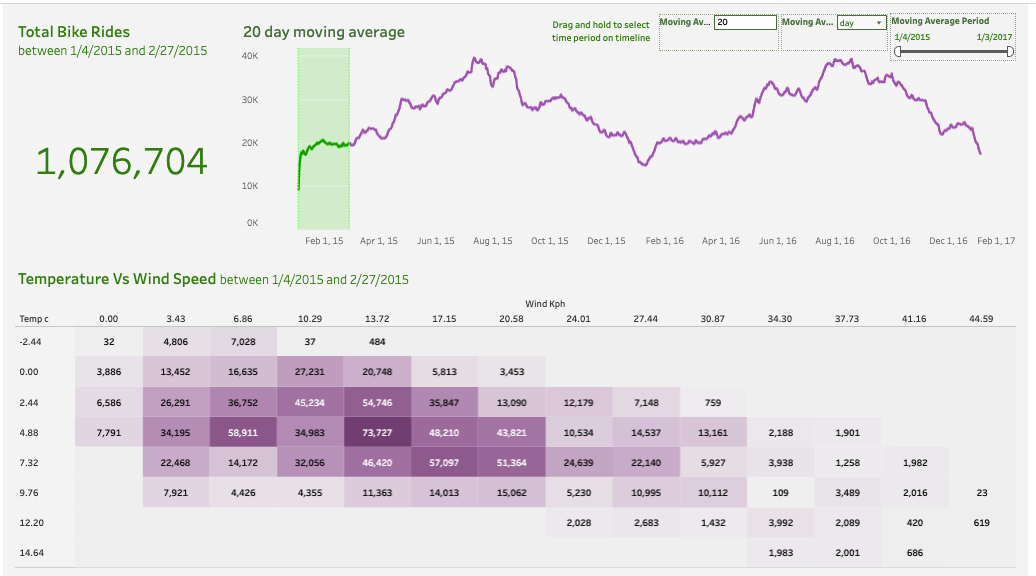

The page's visual inventory and layout, read from the dashboard file:
{"tool":"tableau","page":{"name":"Dashboard 1","canvas":[1366,768],"ordinal":0},"visuals":[{"type":"worksheet","title":"TotalRides","mark":"Automatic","box":[8,8,300,330]},{"type":"worksheet","title":"MovingAverage","mark":"Automatic","rows":["Calculation1"],"cols":["Calculation_5325506627737817089"],"box":[308,8,1050,330]},{"type":"filter","title":"MovingAverage","param":"[federated.1y41ptf0dyswvk1dkyn4m0nlelb0].[none:Calculation_5325506627737817089:q","box":[1183,12,168,64]},{"type":"parameter","param":"[Parameters].[Parameter 2]","box":[874,13,160,49]},{"type":"parameter","param":"[Parameters].[Parameter 1]","box":[1037,13,143,49]},{"type":"text","box":[729,18,137,34]},{"type":"worksheet","title":"HeatMap","mark":"Square","rows":["temp real C (bin)"],"cols":["Wind Speed Kph (bin)"],"box":[8,338,1350,422]}]}

Visuals, with their boxes in screenshot pixels (x1, y1, x2, y2), scaled from the page's 1366x768 canvas onto the 1036x576 screenshot:
"TotalRides" worksheet: rect(6, 6, 234, 254)
"MovingAverage" worksheet: rect(234, 6, 1030, 254)
"MovingAverage" filter: rect(897, 9, 1025, 57)
parameter: rect(663, 10, 784, 46)
parameter: rect(786, 10, 895, 46)
text: rect(553, 14, 657, 39)
"HeatMap" worksheet (Square marks): rect(6, 254, 1030, 570)
